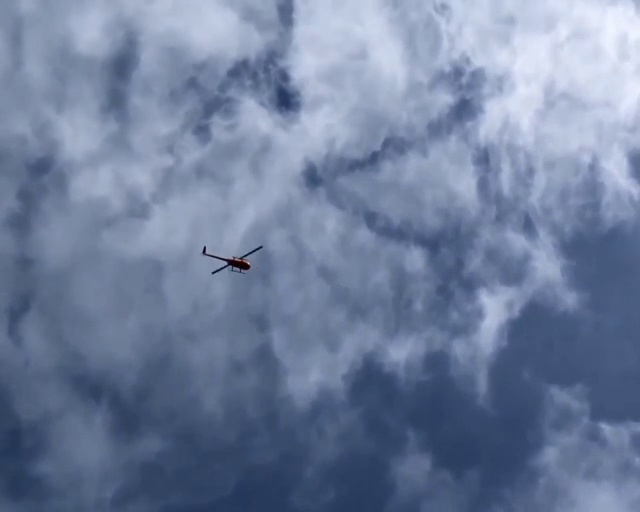HELICOPTER: (200, 244, 263, 275)
